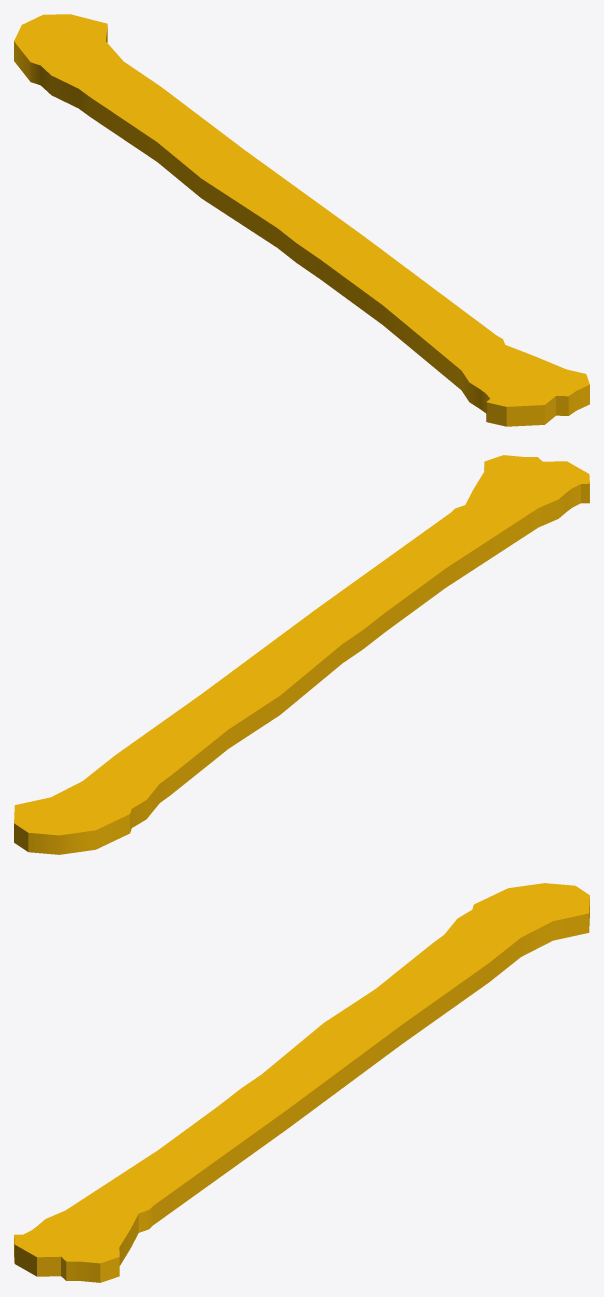
File: original-473.obj
The picture shows the model from 3 angles, top to bottom: view 1: azimuth 30°, elevation 25°; view 2: azimuth 150°, elevation 25°; view 3: azimuth 330°, elevation 25°; orthographic projection.
Parts seen in each view (by area): view 1: mesh3/mesh3-geometry#mesh3-geometry; view 2: mesh3/mesh3-geometry#mesh3-geometry; view 3: mesh3/mesh3-geometry#mesh3-geometry.
Boxes of the visible parts, x1,y1,x2,y2 form: mesh3/mesh3-geometry#mesh3-geometry: (14, 14, 589, 426); mesh3/mesh3-geometry#mesh3-geometry: (14, 455, 589, 854); mesh3/mesh3-geometry#mesh3-geometry: (14, 883, 589, 1282).
Bounding box in the file's own units: 0.00247 × 0.000452 × 0.0217.
